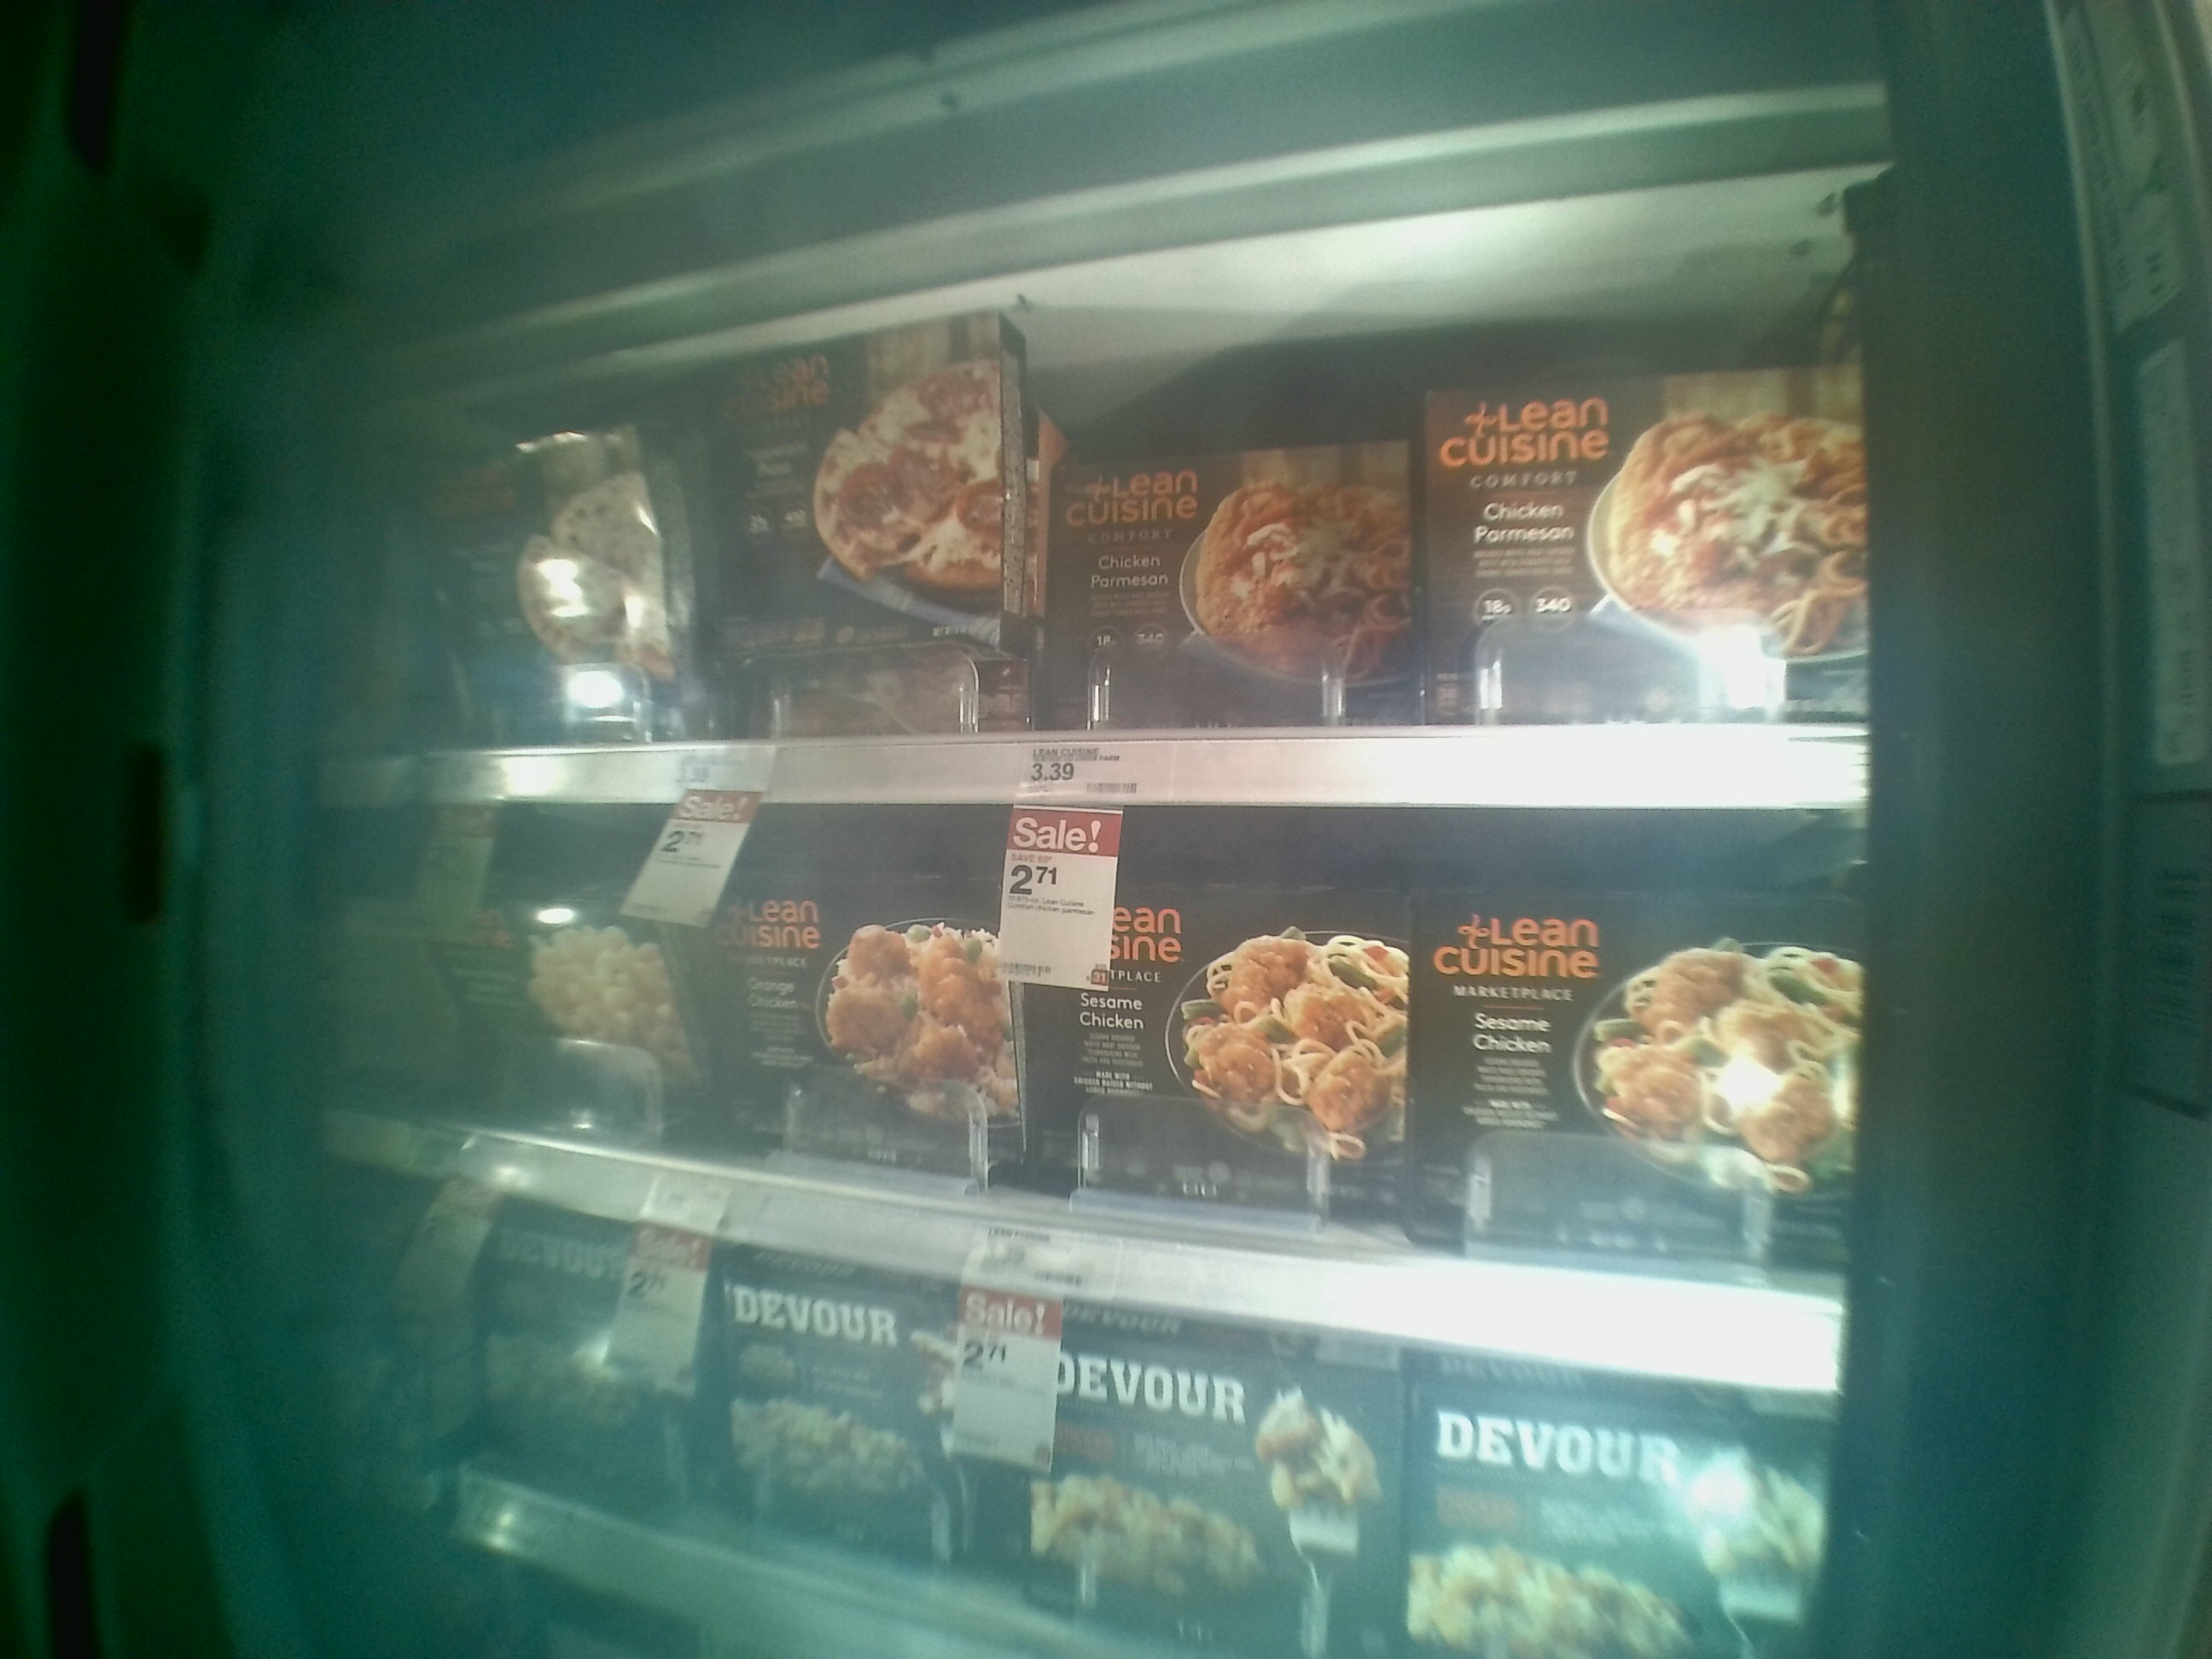shelf: (324, 800, 1865, 1398), (287, 274, 1867, 802)
